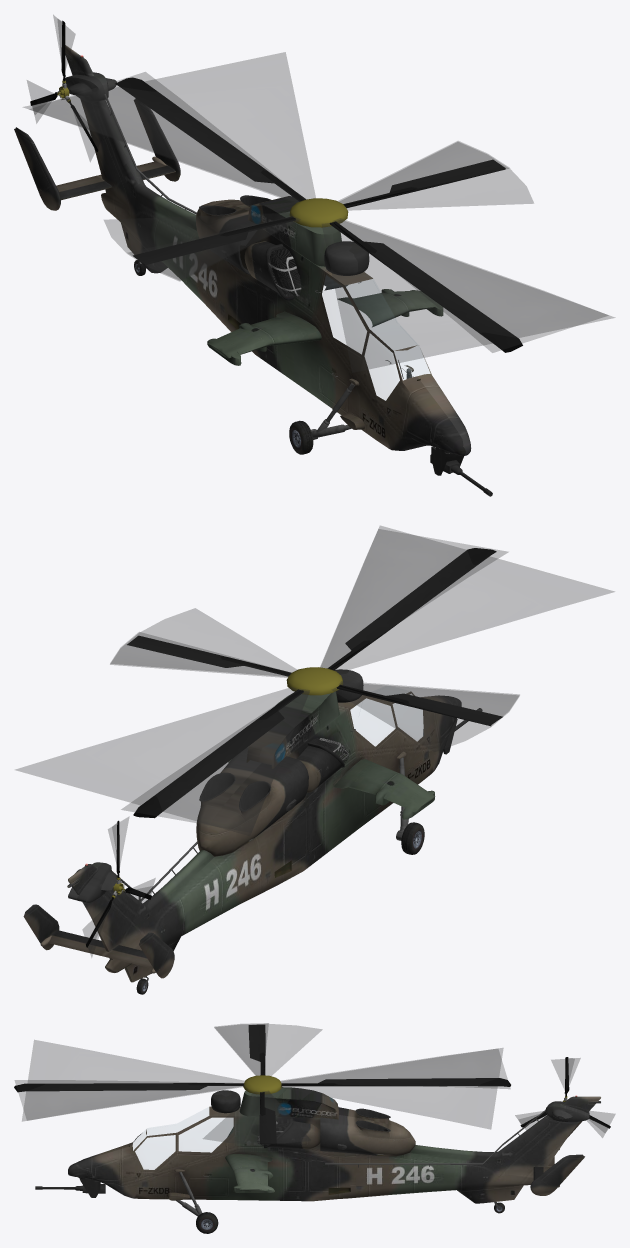
Rendered from attack_heli_tiger.glb.
3 renders of one model, top to bottom at view 1: azimuth 30°, elevation 25°; view 2: azimuth 150°, elevation 25°; view 3: azimuth 270°, elevation 25°, orthographic. The views are drawn at different scales.
Parts seen in each view (by area): view 1: HDRvitres; view 2: HDRvitres; view 3: HDRvitres.
Part boxes in pixels (box(x1,y1,x2,y2)): HDRvitres: box(14, 15, 614, 496); HDRvitres: box(15, 526, 614, 994); HDRvitres: box(14, 1023, 615, 1233).
Bounding box in the file's own units: 6.65 × 3.81 × 14.
6 materials, 6 textured.
